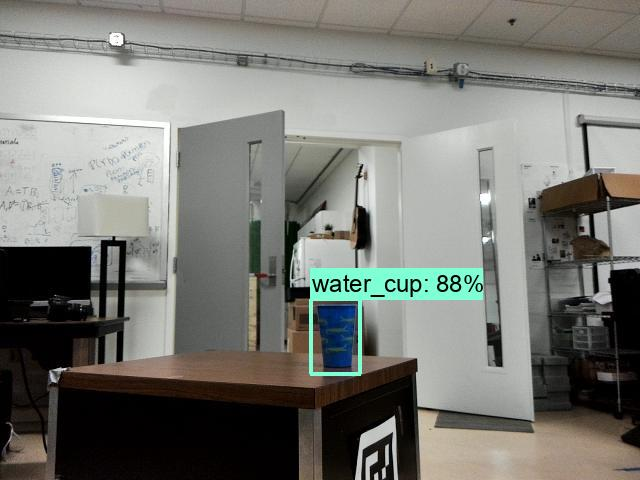water_cup: (312, 302, 359, 373)
